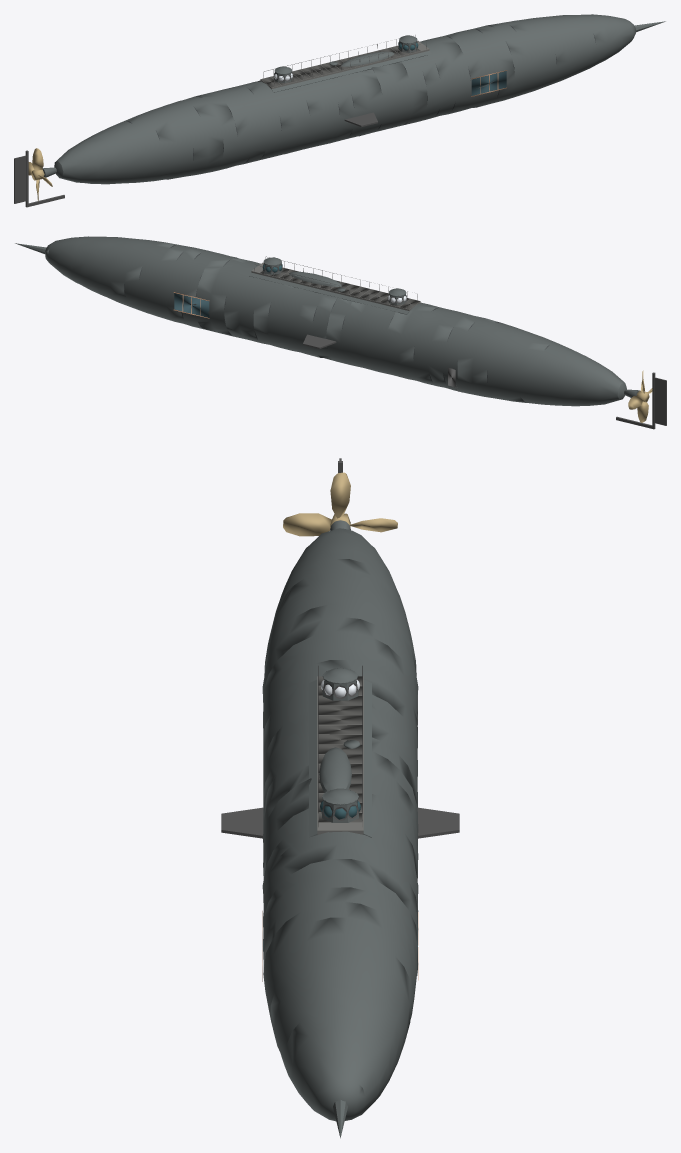
Rendered from Nautilus_Exterior_LOD1.fbx.
3 views of the same model, one above another, from view 1: azimuth 30°, elevation 25°; view 2: azimuth 150°, elevation 25°; view 3: azimuth 270°, elevation 25° (orthographic). The views are drawn at different scales.
Visible parts, largest first — view 1: Hull_LOD1, Details_LOD1, Screw_LOD1; view 2: Hull_LOD1, Details_LOD1, Screw_LOD1; view 3: Hull_LOD1, Details_LOD1, Screw_LOD1.
Part boxes in pixels (box(x1,y1,x2,y2)): Hull_LOD1: box(54, 14, 635, 184); Details_LOD1: box(14, 21, 665, 207); Screw_LOD1: box(28, 148, 52, 200); Hull_LOD1: box(45, 236, 626, 406); Details_LOD1: box(15, 243, 666, 429); Screw_LOD1: box(628, 370, 652, 422); Hull_LOD1: box(262, 528, 418, 1121); Details_LOD1: box(221, 458, 459, 1138); Screw_LOD1: box(283, 472, 397, 536).
Size of the model in its own units: 78.45 by 9.5 by 12.4.
